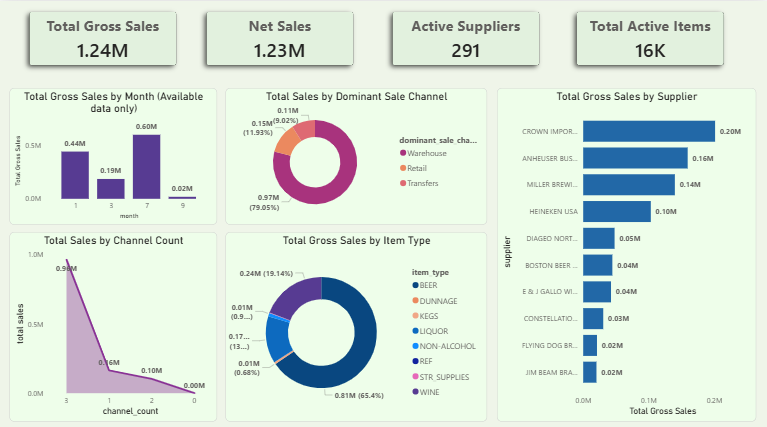

The page's visual inventory and layout, read from the dashboard file:
{"tool":"powerbi","page":{"name":"Sales Analysis","canvas":[1280,720],"ordinal":0},"visuals":[{"type":"clusteredColumnChart","title":"Total Gross Sales by Month (Available data only)","fields":{"Category":["final_retail_and_warehouse_sales.month"],"Y":["final_retail_and_warehouse_sales.TotalGrossSales"]},"box":[18,144,346,228],"z":1000},{"type":"cardVisual","fields":{"Data":["final_retail_and_warehouse_sales.NoOfItems"]},"box":[944.3,0,281.4,125.7],"z":4000},{"type":"donutChart","title":"Total Gross Sales by  Item Type","fields":{"Y":["final_retail_and_warehouse_sales.TotalGrossSales"],"Series":["final_retail_and_warehouse_sales.item_type"]},"box":[378,384,436,316],"z":5000},{"type":"clusteredBarChart","title":"Total Gross Sales by  Supplier","fields":{"Y":["final_retail_and_warehouse_sales.TotalGrossSales"],"Category":["final_retail_and_warehouse_sales.supplier"]},"box":[830,144,432,556],"z":6000},{"type":"areaChart","title":"Total Sales by  Channel Count","fields":{"Category":["final_retail_and_warehouse_sales.channel_count"],"Y":["Sum(final_retail_and_warehouse_sales.total_sales)"]},"box":[18,384,346,316],"z":7000},{"type":"donutChart","title":"Total Sales by  Dominant Sale Channel","fields":{"Y":["final_retail_and_warehouse_sales.TotalSales"],"Category":["final_retail_and_warehouse_sales.dominant_sale_channel"]},"box":[378,144,436,228],"z":8000},{"type":"cardVisual","fields":{"Data":["final_retail_and_warehouse_sales.NoOfSuppliers"]},"box":[637.1,0,281.4,125.7],"z":9000},{"type":"cardVisual","fields":{"Data":["final_retail_and_warehouse_sales.TotalGrossSales"]},"box":[31.4,0,281.4,125.7],"z":10000},{"type":"cardVisual","fields":{"Data":["final_retail_and_warehouse_sales.TotalSales"]},"box":[328.6,0,281.4,125.7],"z":11000}]}

Visuals, with their boxes in screenshot pixels (x1, y1, x2, y2), scaled from the page's 1280x720 canvas onto the 767x427 screenshot:
"Total Gross Sales by Month (Available data only)" clusteredColumnChart: {"left": 11, "top": 85, "right": 218, "bottom": 221}
cardVisual - final_retail_and_warehouse_sales.NoOfItems: {"left": 566, "top": 0, "right": 734, "bottom": 75}
"Total Gross Sales by  Item Type" donutChart: {"left": 227, "top": 228, "right": 488, "bottom": 415}
"Total Gross Sales by  Supplier" clusteredBarChart: {"left": 497, "top": 85, "right": 756, "bottom": 415}
"Total Sales by  Channel Count" areaChart: {"left": 11, "top": 228, "right": 218, "bottom": 415}
"Total Sales by  Dominant Sale Channel" donutChart: {"left": 227, "top": 85, "right": 488, "bottom": 221}
cardVisual - final_retail_and_warehouse_sales.NoOfSuppliers: {"left": 382, "top": 0, "right": 550, "bottom": 75}
cardVisual - final_retail_and_warehouse_sales.TotalGrossSales: {"left": 19, "top": 0, "right": 187, "bottom": 75}
cardVisual - final_retail_and_warehouse_sales.TotalSales: {"left": 197, "top": 0, "right": 366, "bottom": 75}
